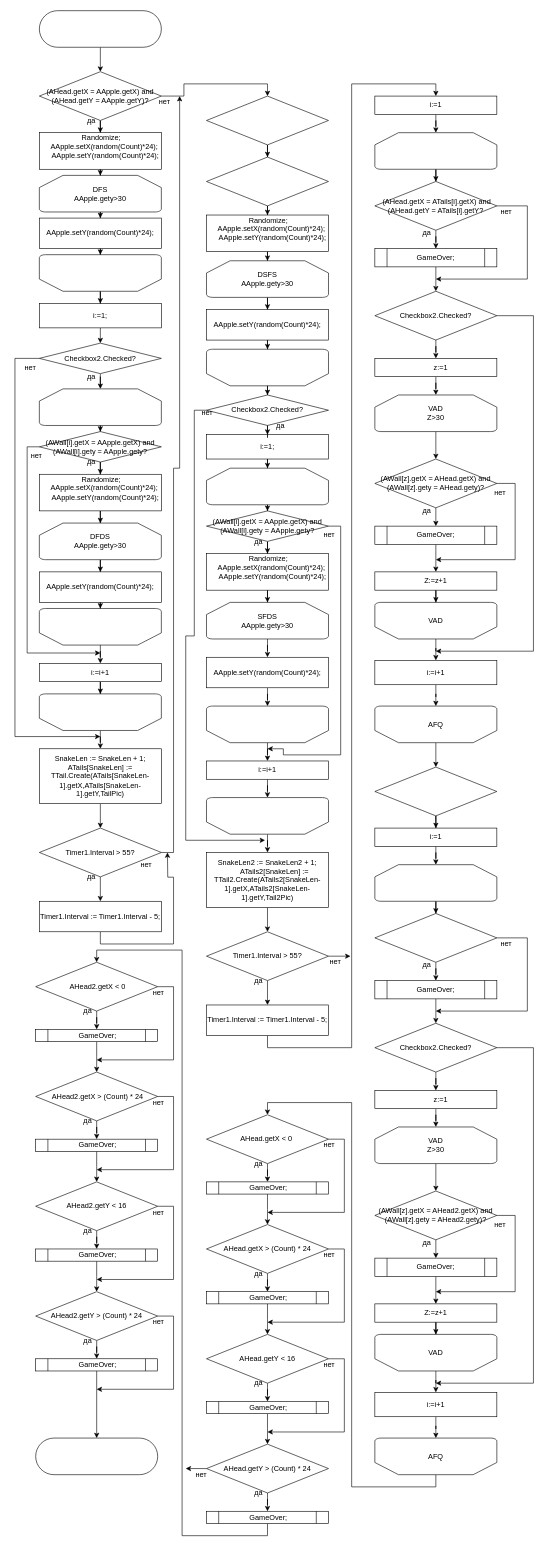
This 549x1551 diagram has some shape labels left out. Each missing label, with the centre of its shape:
"(AHead2.getX = AApple.getX) and (AHead2.getY = AApple.getY)?" goes at point (267, 181).
"(AHead2.getX = ATails2[i].getX) and (AHead2.getY = ATails2[i].getY)?" goes at point (435, 937).
"AFQ I>SnakeLen" goes at point (435, 150).
"AFQ I>SnakeLen2" goes at point (435, 882).
"checkBox1.Checked" goes at point (435, 791).
"checkBox1.Checked ?" goes at point (267, 120).
"DFDS" goes at point (100, 626).
"DFS" goes at point (100, 272).
"DSFS" goes at point (267, 367).
"SFA" goes at point (100, 711).
"SFA I>30" goes at point (100, 406).
"SFAF" goes at point (267, 815).
"SFAF I>30" goes at point (267, 486).
"SFDS" goes at point (267, 724).
"TForm1.Game Начало" goes at point (100, 28).
"Конец" goes at point (96, 1456).
